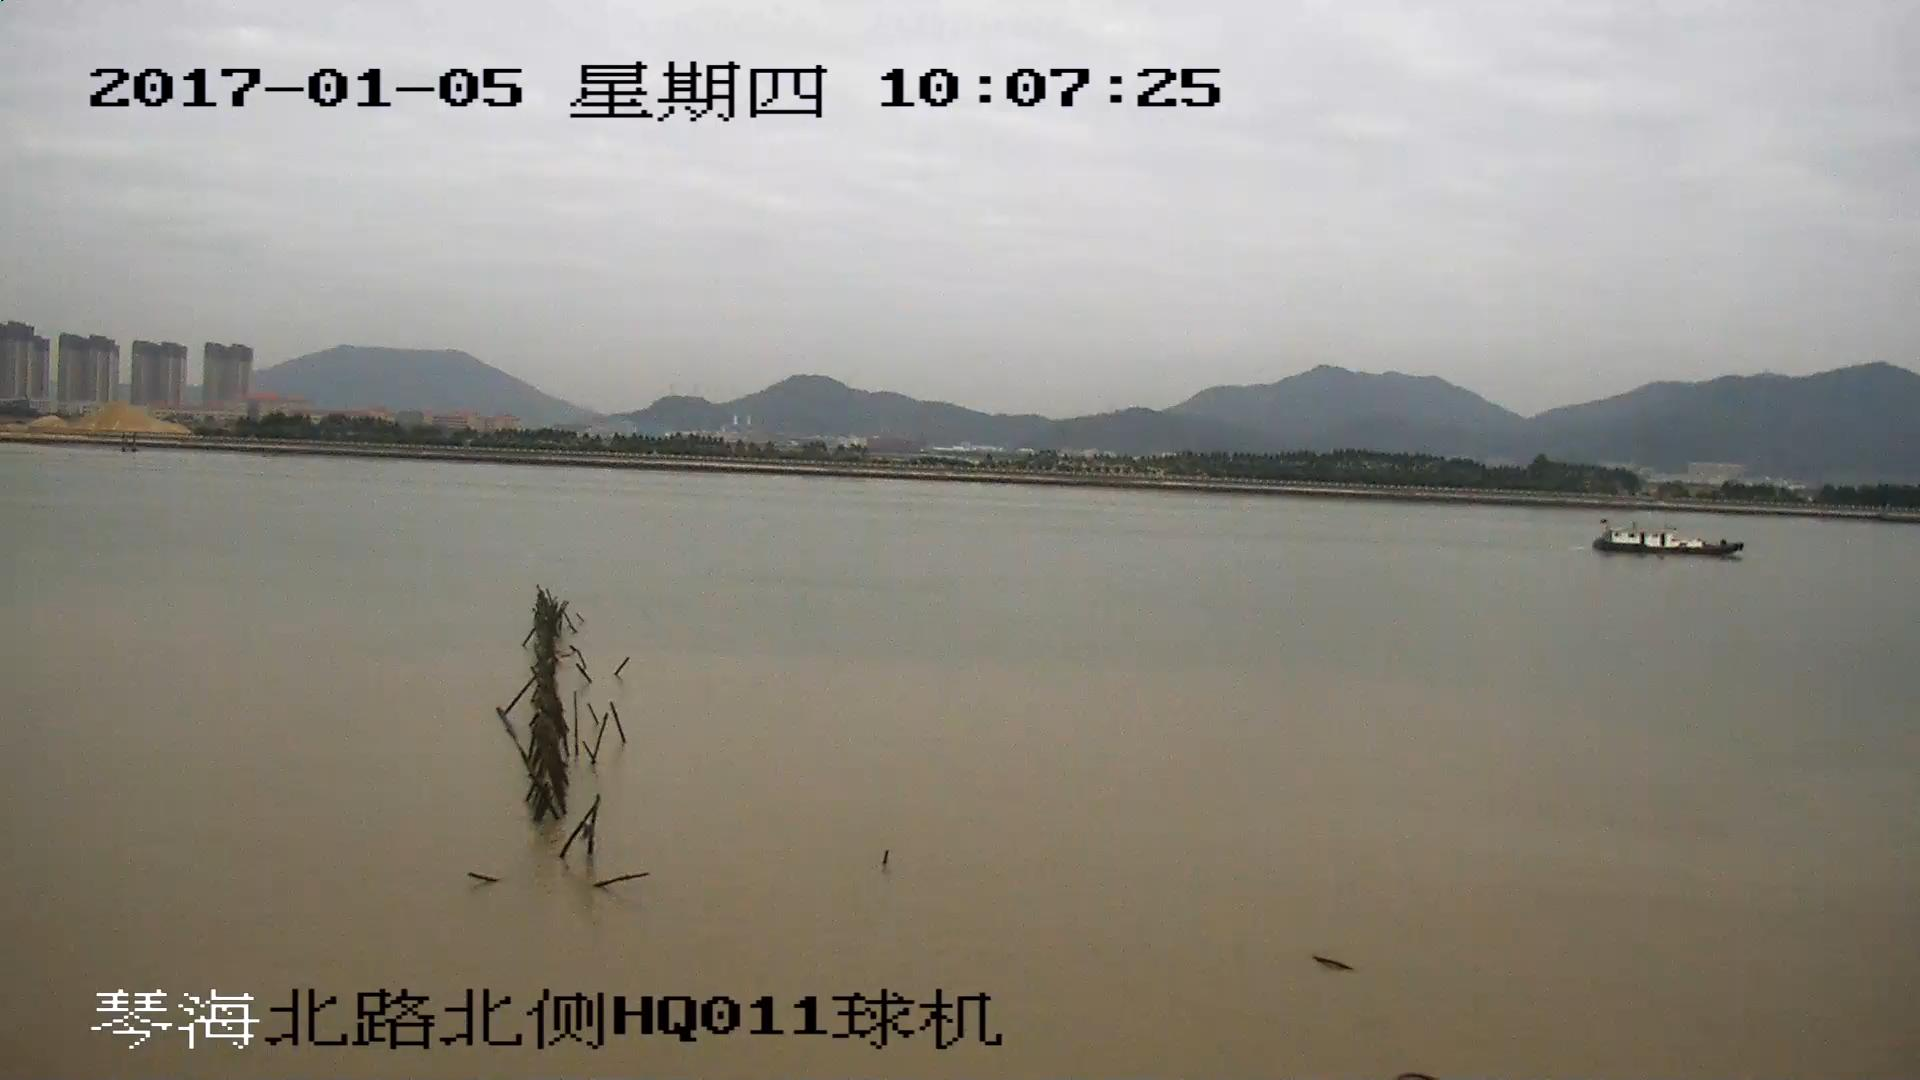fishing boat: (1591, 519, 1749, 560)
